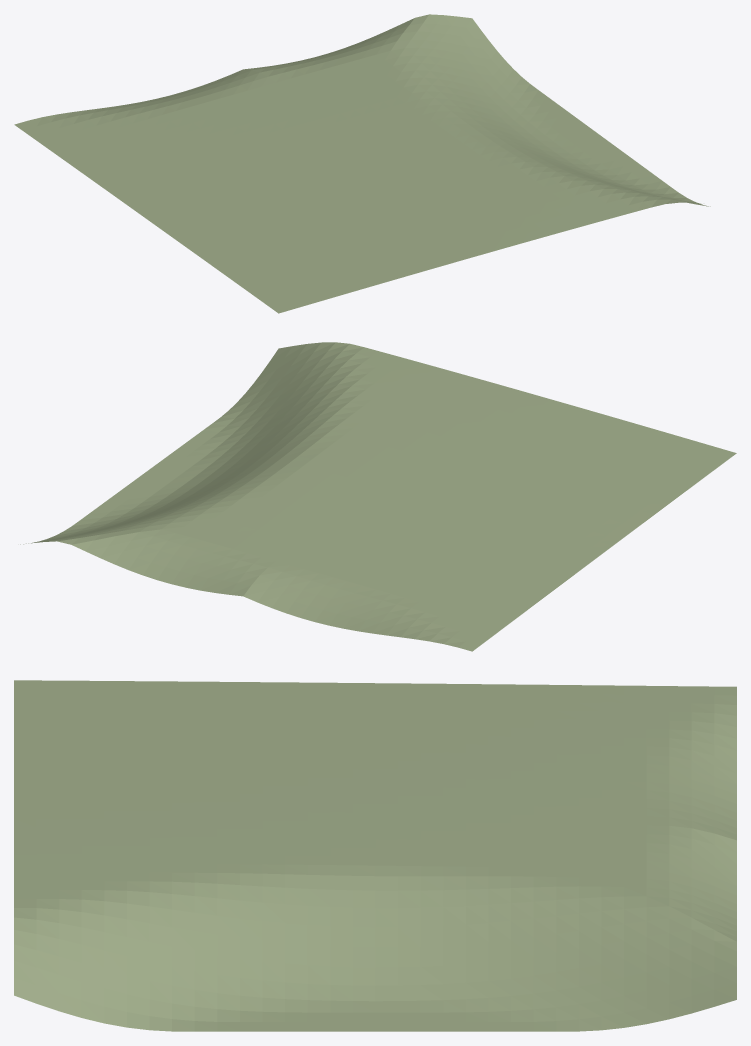
The model's file is gardens-0-1.glb.
3 renders of one model, top to bottom at view 1: azimuth 30°, elevation 25°; view 2: azimuth 150°, elevation 25°; view 3: azimuth 270°, elevation 25°, orthographic. The views are drawn at different scales.
Visible parts, largest first — view 1: gardens-0-1; view 2: gardens-0-1; view 3: gardens-0-1.
Part boxes in pixels (bbox=[...]): gardens-0-1: bbox=[14, 14, 710, 313]; gardens-0-1: bbox=[20, 342, 736, 651]; gardens-0-1: bbox=[14, 680, 736, 1031].
Bounding box in the file's own units: 256 × 25.96 × 256.
